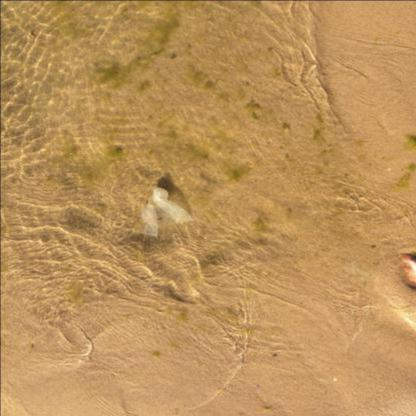Plastic bag - wrapper: (137, 186, 193, 236)
